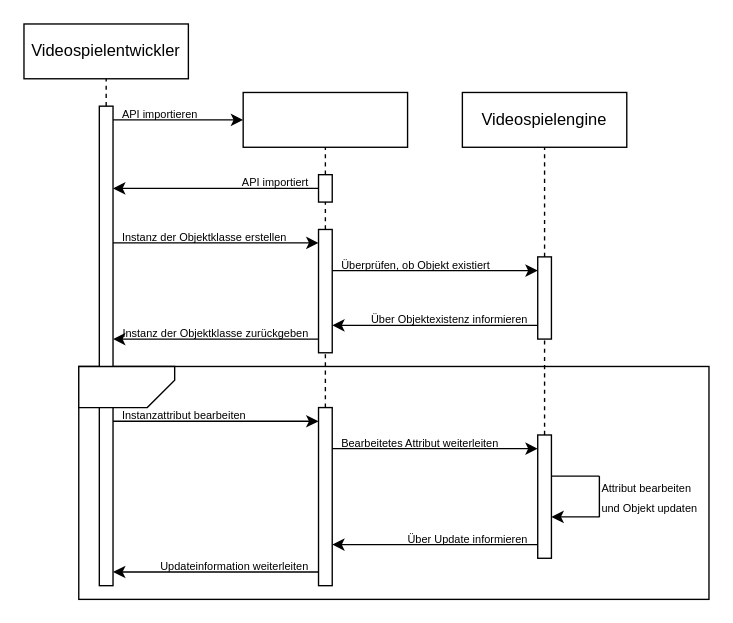
The diagram is 733 pixels wide and 623 high, and some of its shapes have lost their labels. Each missing label, with the centre of its shape:
"Programmier-schnittstelle (API)" goes at [325,119].
"Schleife" goes at [126,386].
